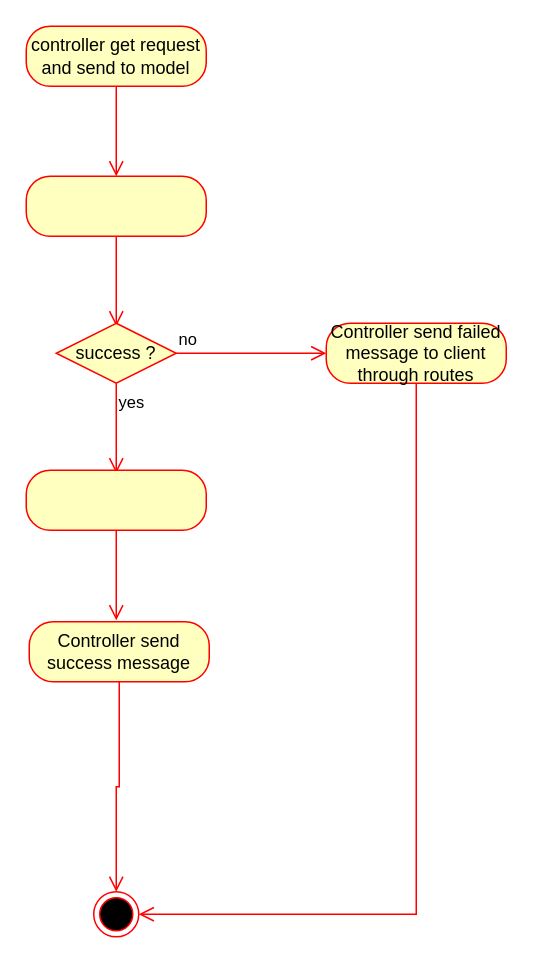
Image size: 533x963. Some labels were removed from this diagram. The shapes that lost their labels are listed below. From the top down, each one's centre as x and y in pixels, then its label:
At point (115, 205): "model send query to sql database".
At point (115, 499): "model update database".
